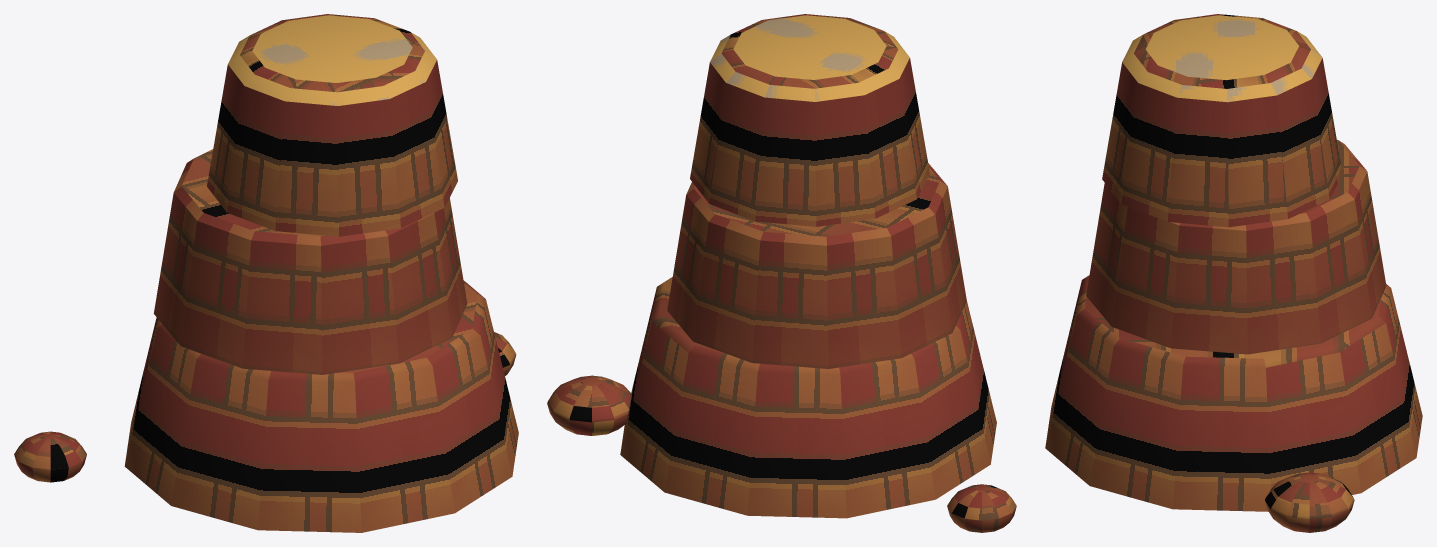
File: spec_desert_rock_2.glb
3 renders of one model, left to right at view 1: azimuth 30°, elevation 25°; view 2: azimuth 150°, elevation 25°; view 3: azimuth 270°, elevation 25°, orthographic. The views are drawn at different scales.
Parts seen in each view (by area): view 1: spec_desert_rock_2; view 2: spec_desert_rock_2; view 3: spec_desert_rock_2.
Boxes of the visible parts, box(x1,y1,x2,y2) form: spec_desert_rock_2: box(14, 14, 518, 532); spec_desert_rock_2: box(547, 14, 1016, 532); spec_desert_rock_2: box(1045, 14, 1422, 532).
Size of the model in its own units: 3.21 by 2.58 by 2.26.
Materials: 2 (2 with a texture image).
